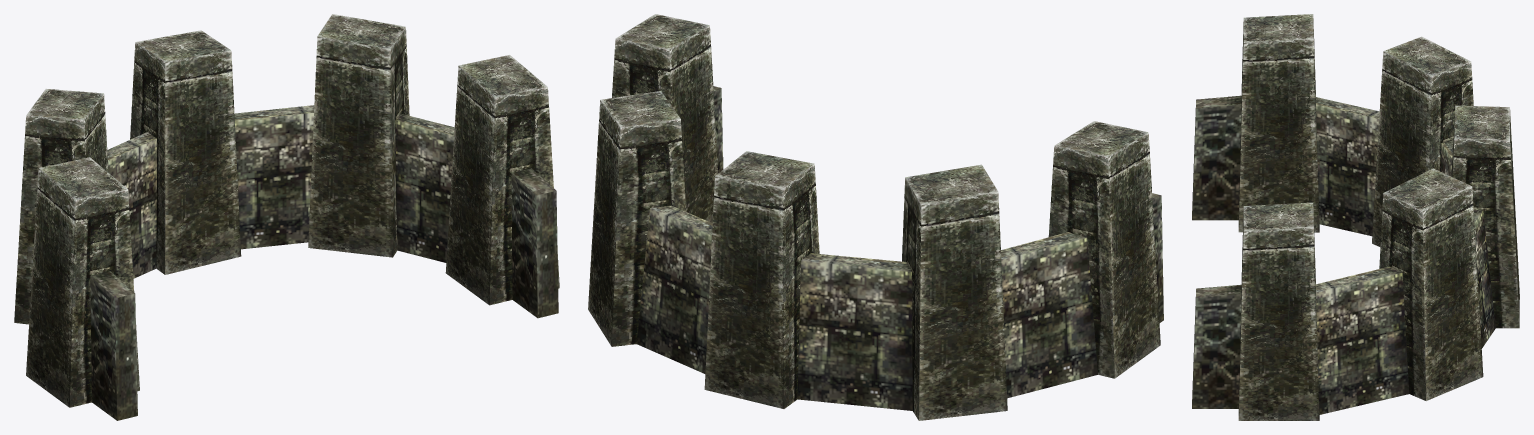
File: OZ_06_mi_build01B.glb
The picture shows the model from 3 angles, left to right: view 1: azimuth 30°, elevation 25°; view 2: azimuth 150°, elevation 25°; view 3: azimuth 270°, elevation 25°; orthographic projection. The views are drawn at different scales.
Parts seen in each view (by area): view 1: OM_06_mi_build01B; view 2: OM_06_mi_build01B; view 3: OM_06_mi_build01B.
Boxes of the visible parts, x1,y1,x2,y2 form: OM_06_mi_build01B: (14,14,559,420); OM_06_mi_build01B: (588,14,1163,420); OM_06_mi_build01B: (1192,14,1519,420).
Bounding box in the file's own units: 4.48 × 1.82 × 2.82.
Materials: 1 (1 with a texture image).
